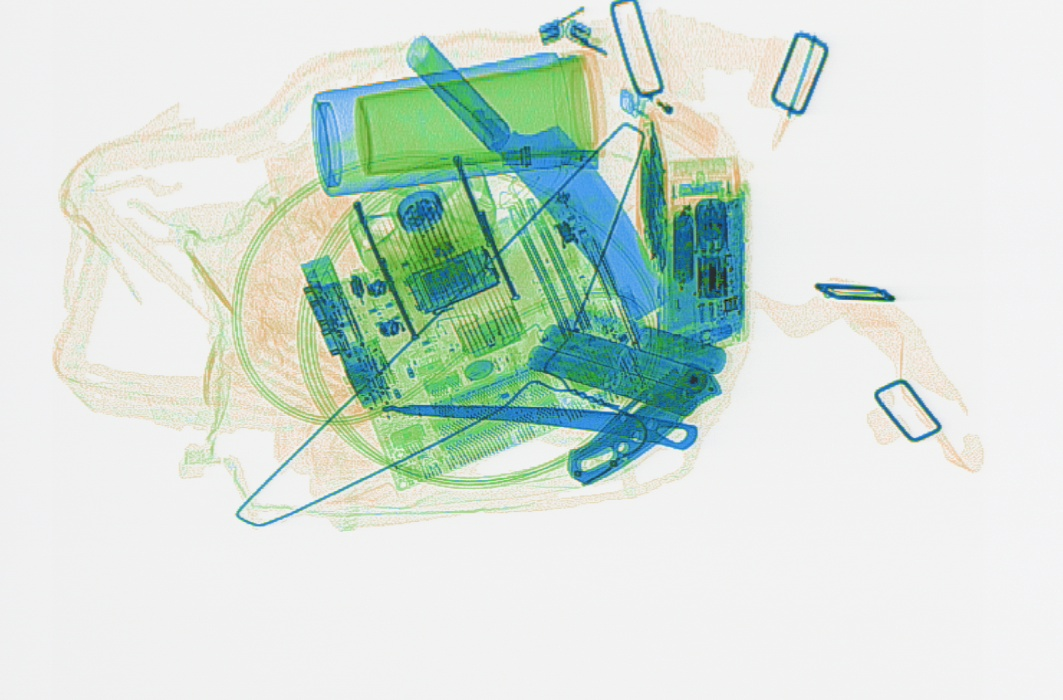knife: (406, 35, 672, 321), (565, 363, 720, 485)
lighter: (616, 75, 718, 156)
powerbank: (527, 303, 727, 418)
